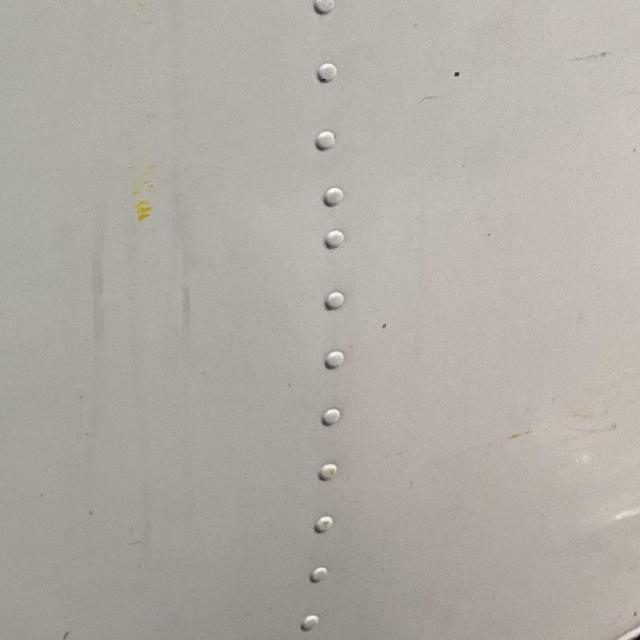Rupture: (569, 629, 640, 640)
